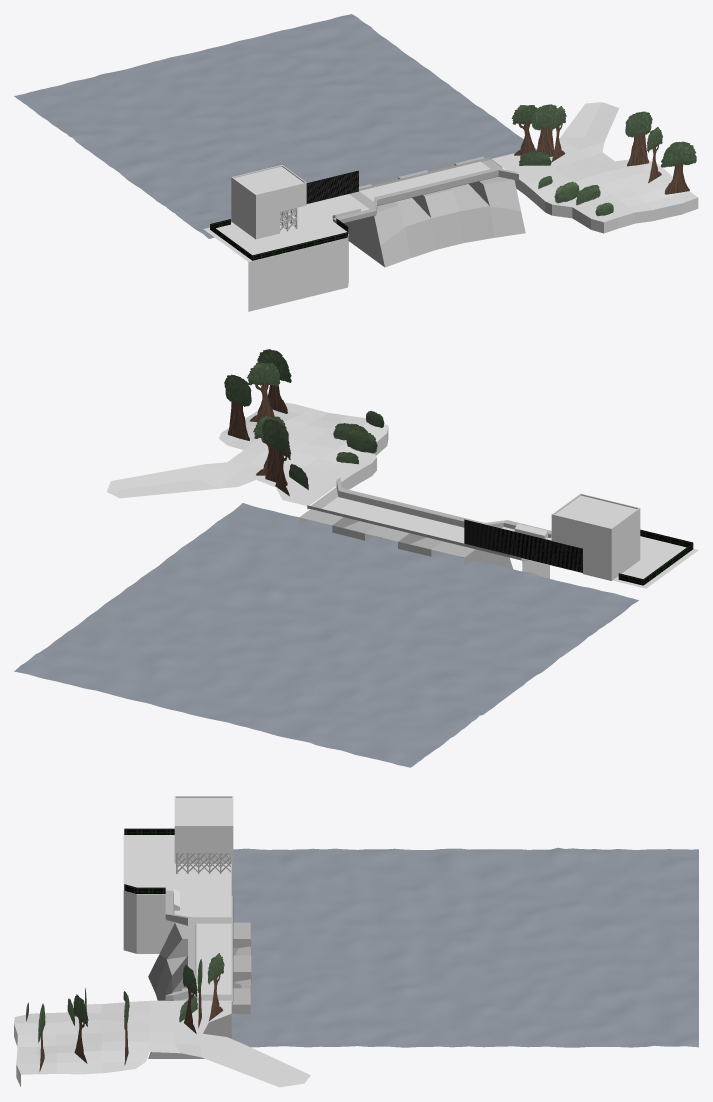
The model's file is dam_v2_untextured.glb.
3 renders of one model, top to bottom at view 1: azimuth 30°, elevation 25°; view 2: azimuth 150°, elevation 25°; view 3: azimuth 270°, elevation 25°, orthographic. The views are drawn at different scales.
Parts seen in each view (by area): view 1: Water, Level, Dam, Control_Room, Bridge, Fence, Forest.007, Forest.006, Forest.008, Forest.009, Plane, Forest (+1 smaller); view 2: Water, Level, Control_Room, Dam, Fence, Bridge, Forest.006, Forest.010, Forest.007, Forest.008; view 3: Water, Level, Dam, Control_Room, Bridge, Scaffold, Forest.009, Forest, Forest.010.
Part boxes in pixels (x1,y1,x2,y2): Water: (14,14,536,238); Level: (203,102,698,311); Dam: (344,156,525,267); Control_Room: (231,165,306,239); Bridge: (333,157,518,223); Fence: (306,170,358,203); Forest.007: (660,141,696,194); Forest.006: (625,111,652,166); Forest.008: (532,104,557,156); Forest.009: (511,105,537,155); Plane: (252,232,347,260); Forest: (550,106,566,162); Water: (14,503,638,767); Level: (106,402,698,588); Control_Room: (551,493,640,580); Dam: (299,509,512,568); Fence: (464,519,582,572); Bridge: (307,477,551,561); Forest.006: (224,374,251,440); Forest.010: (246,362,280,421); Forest.007: (257,349,291,413); Forest.008: (262,419,289,485); Water: (231,847,698,1047); Level: (14,833,310,1087); Dam: (148,922,251,1058); Control_Room: (174,796,233,863); Bridge: (165,890,233,1003); Scaffold: (176,853,230,873); Forest.009: (207,953,224,1021); Forest: (183,964,197,1033); Forest.010: (73,994,88,1063).
Size of the model in its own units: 82.6 by 18.94 by 93.79.
Materials: 6 (3 with a texture image).
